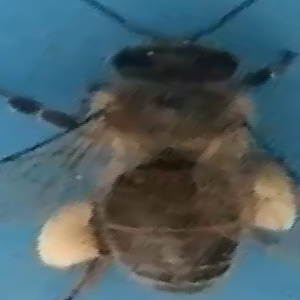bee: (28, 15, 300, 295)
